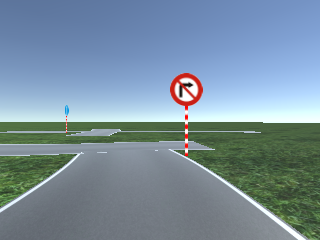-5: (1, 189, 320, 239)
NoRight: (169, 72, 203, 106)
